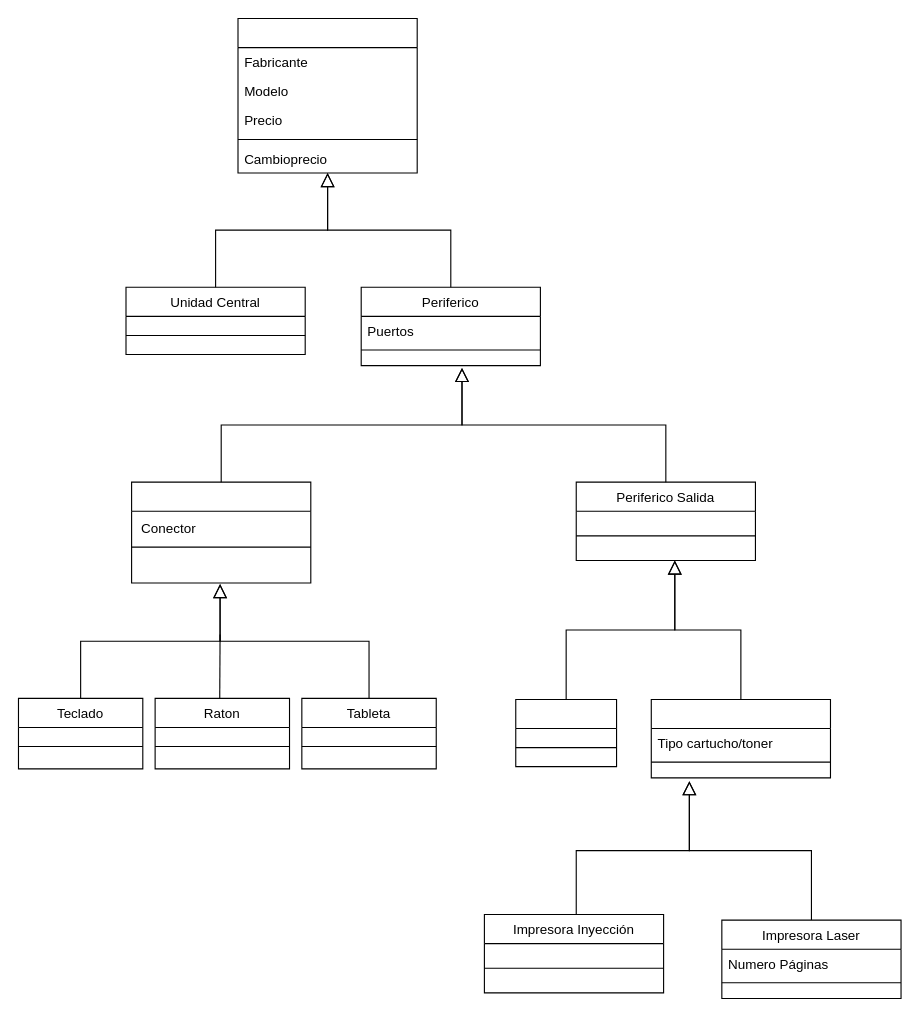
Some shapes in this 920 by 1017 pixel diagram are drawn without their labels. Each missing label, with the box of its shape:
Componente: (237, 17, 417, 173)
Impresora: (650, 698, 830, 778)
Pantalla: (515, 698, 617, 767)
Periferico Entrada: (130, 481, 311, 583)
